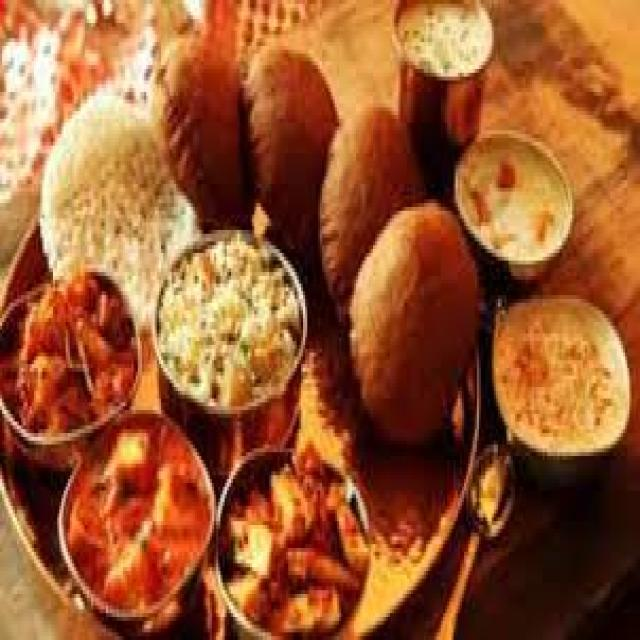rice: (154, 218, 303, 424), (45, 107, 179, 292)
sweet: (3, 258, 138, 461), (455, 138, 579, 272)
veg-fry: (60, 408, 213, 635), (0, 258, 142, 461), (480, 297, 635, 466)
